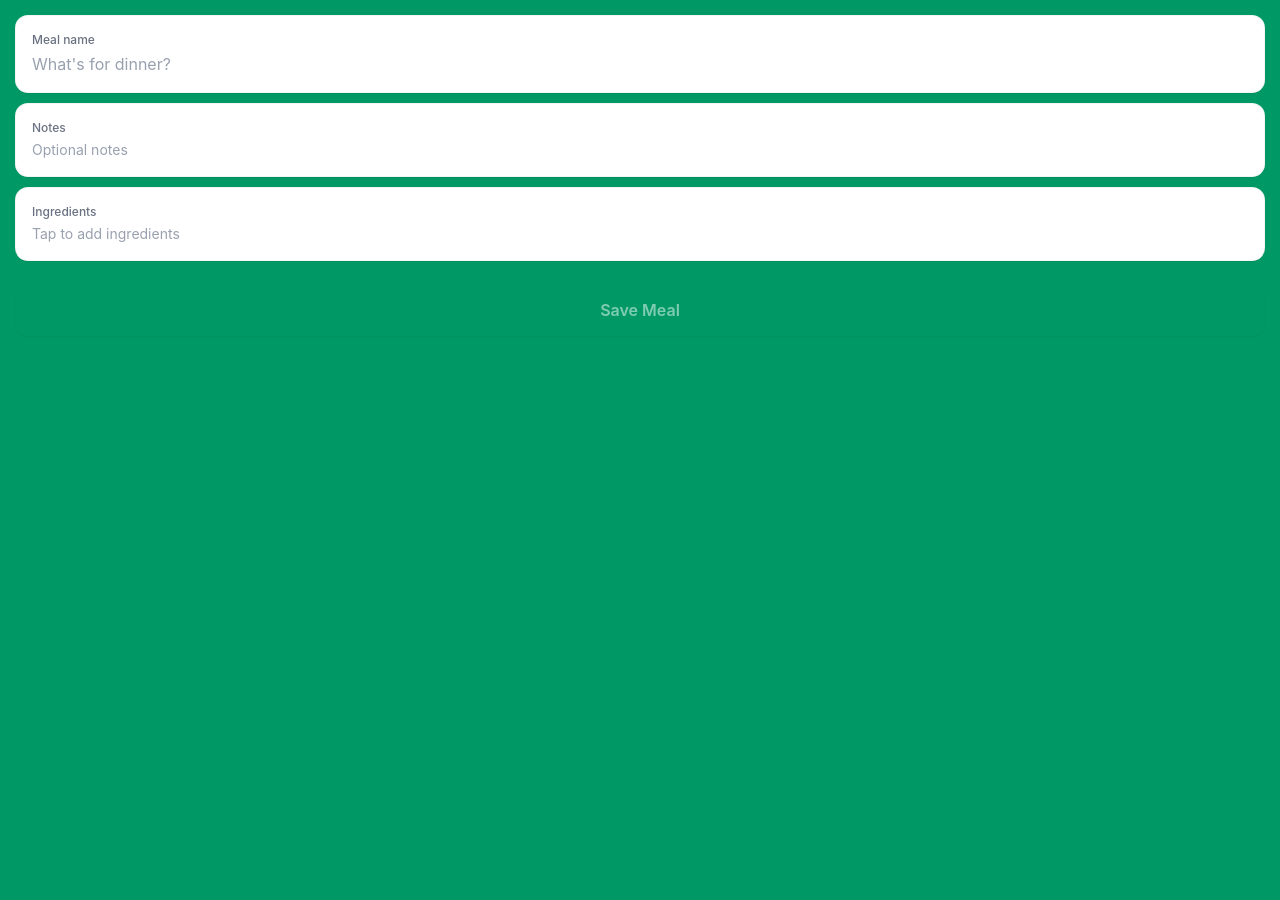
Test case: AddMealView › opens ingredients tray when ingredients field is tapped
The image size is (1280, 900).
Click the button with test id "ingredients-field": click(64, 212) [16, 188, 1264, 260]
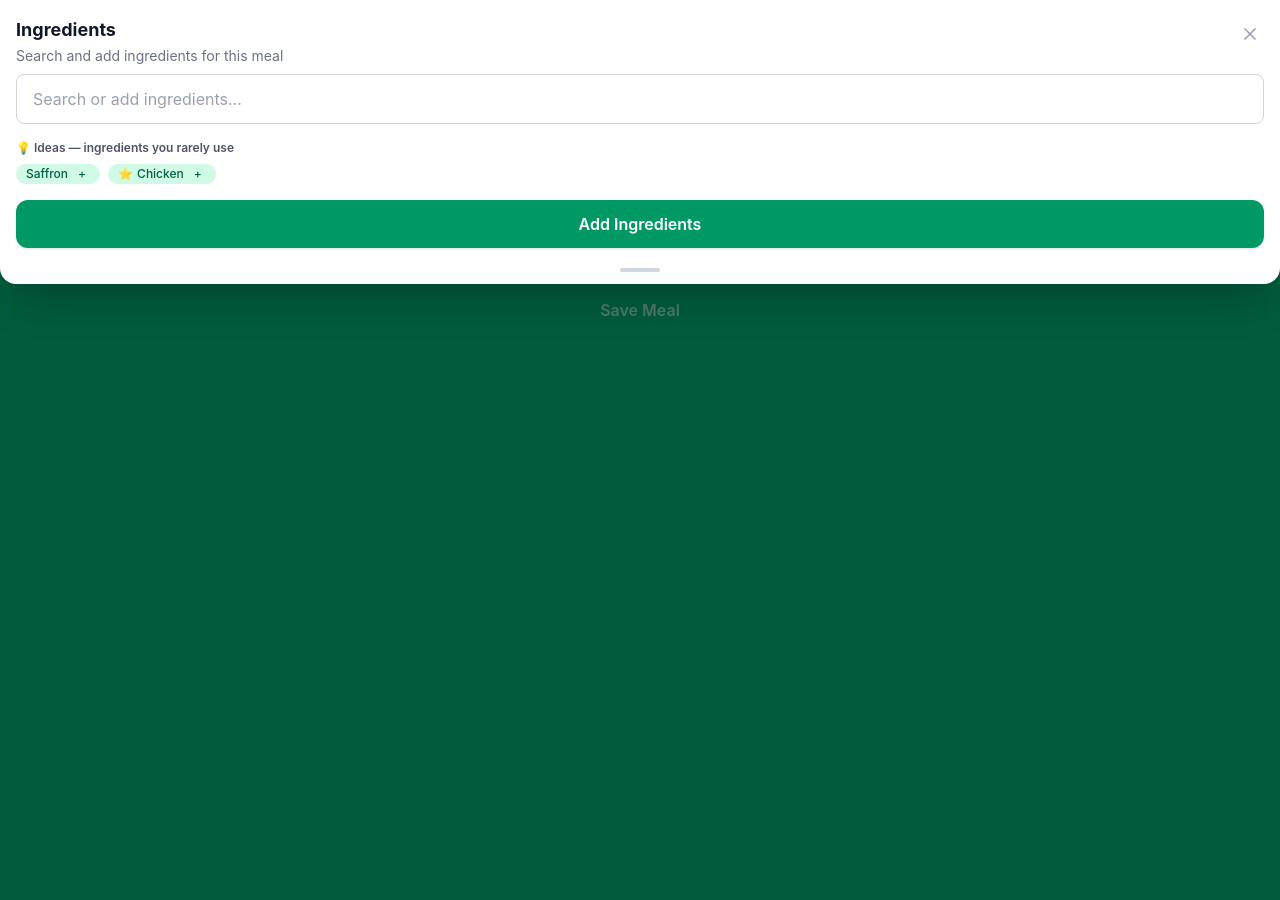
Check: the field with test id "ingredient-search-input" is shown, box [16, 74, 1264, 124]
Check: the button with test id "add-ingredients-button" is shown, box [16, 200, 1264, 248]
